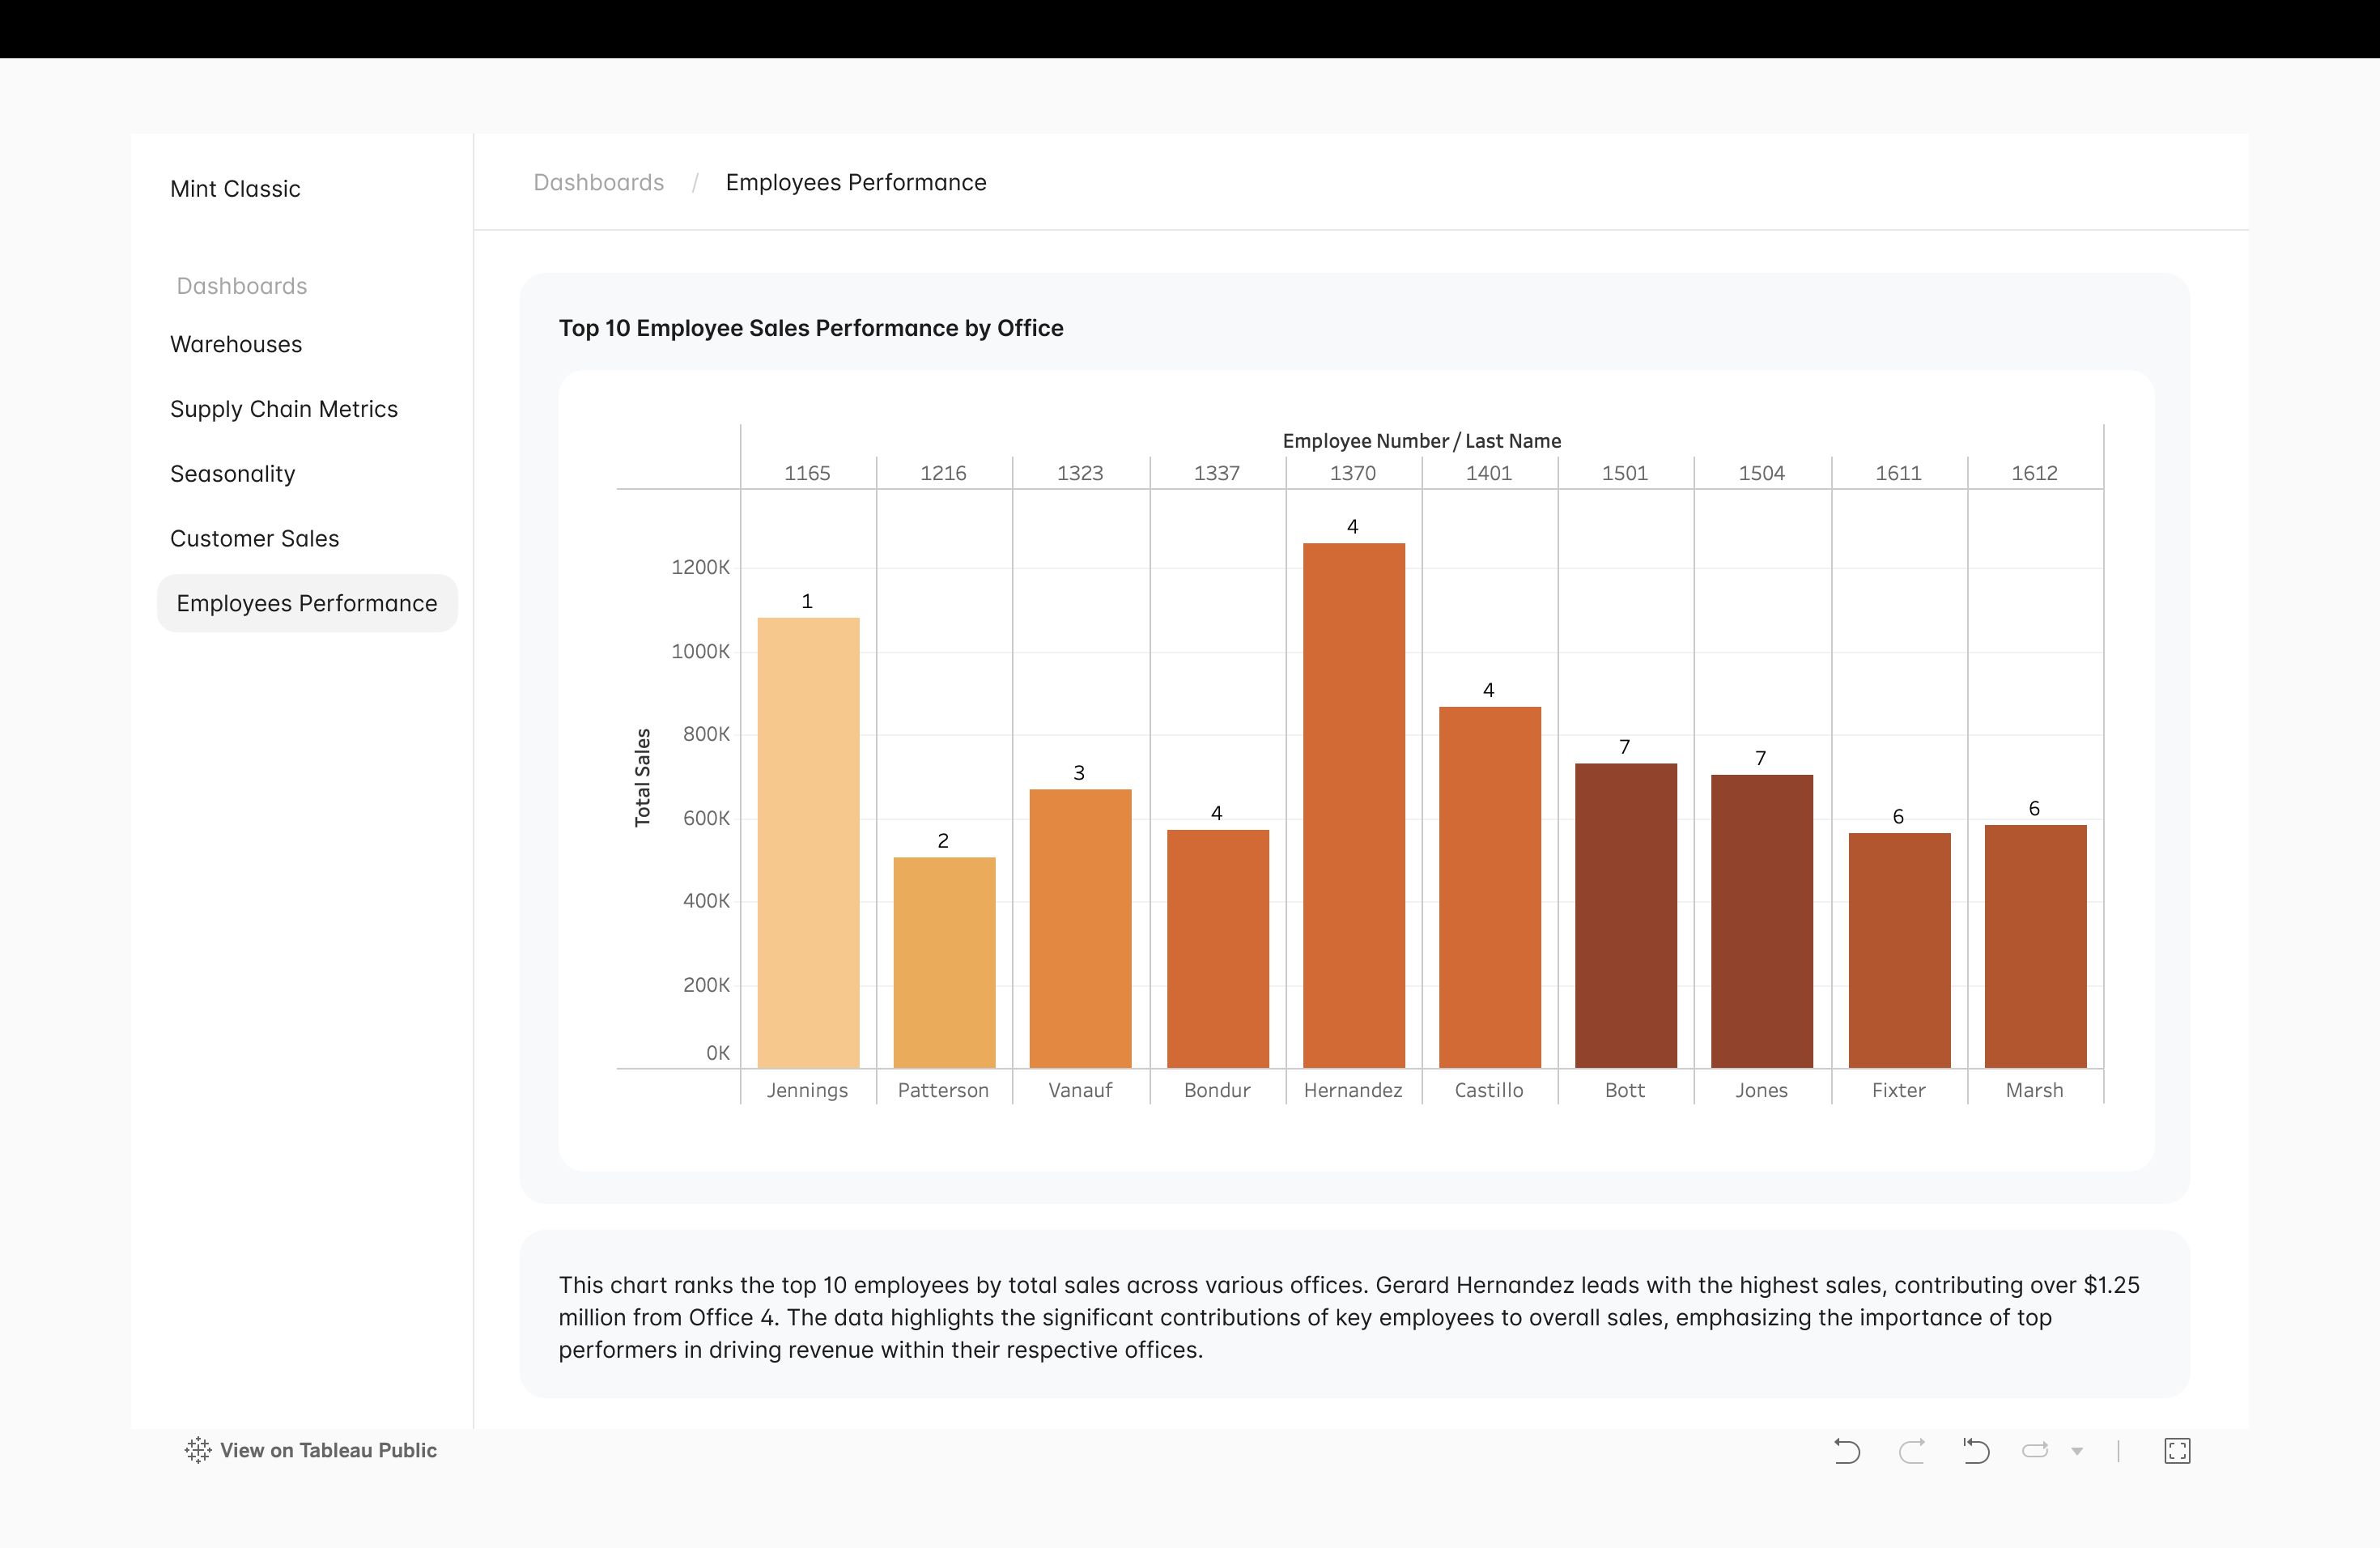

The dashboard page shown, as its layout file describes it:
{"tool":"tableau","page":{"name":"F_EmployeePerformance","canvas":[1308,800],"ordinal":3},"visuals":[{"type":"image","param":"/Users/rahulsharma/Documents/Employee_Perfomrmance.png","box":[0,0,1308,800]},{"type":"worksheet","title":"emp_performance","mark":"Automatic","rows":["total_sales"],"cols":["employeeNumber","lastName"],"box":[300,179,919,421]}]}

Visuals, with their boxes on the page's 1308x800 design canvas (x1, y1, x2, y2). These are canvas units, not pixel positions in the 2380x1548 screenshot, which may show the page scaled, cropped or inside an application window:
image: l=0, t=0, r=1308, b=800
"emp_performance" worksheet: l=300, t=179, r=1219, b=600
